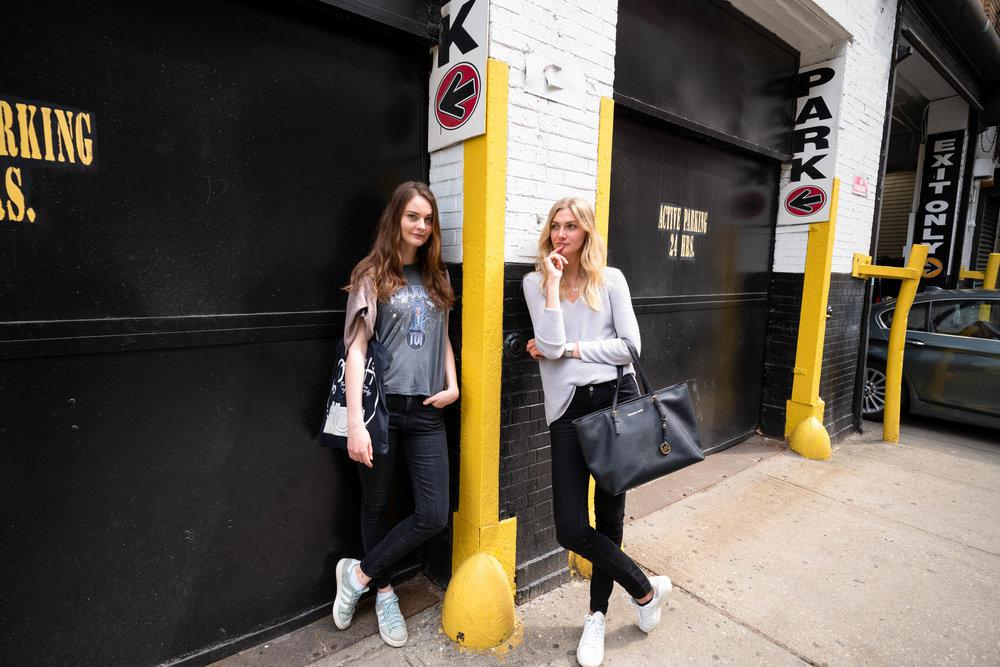without_mask: (534, 201, 613, 276), (379, 180, 446, 262)
